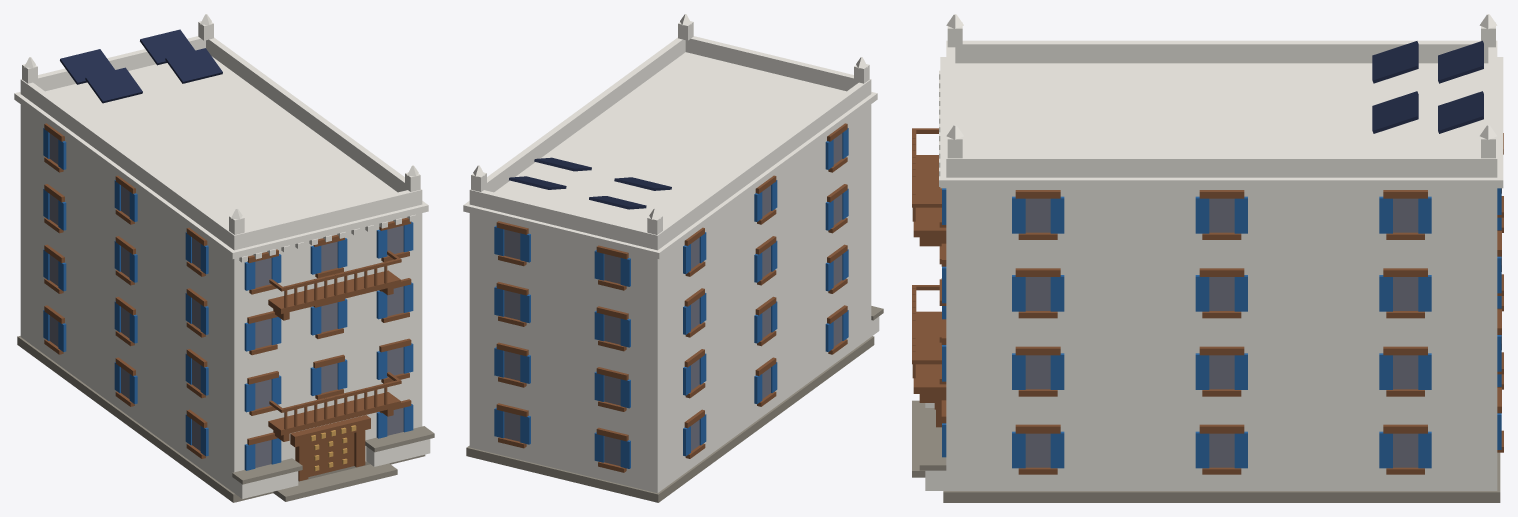
The model's file is house-1x2-4f-swahili-a-solar.glb.
3 views of the same model, side by side, from view 1: azimuth 30°, elevation 25°; view 2: azimuth 150°, elevation 25°; view 3: azimuth 270°, elevation 25° (orthographic). The views are drawn at different scales.
Parts seen in each view (by area): view 1: house-1x2-4f-swahili-a-solar; view 2: house-1x2-4f-swahili-a-solar; view 3: house-1x2-4f-swahili-a-solar.
Part boxes in pixels (bbox=[...]): house-1x2-4f-swahili-a-solar: bbox=[14, 14, 434, 502]; house-1x2-4f-swahili-a-solar: bbox=[463, 14, 883, 502]; house-1x2-4f-swahili-a-solar: bbox=[912, 14, 1503, 502].
Size of the model in its own units: 0.984 by 1.38 by 1.99.
1 material, 1 textured.
